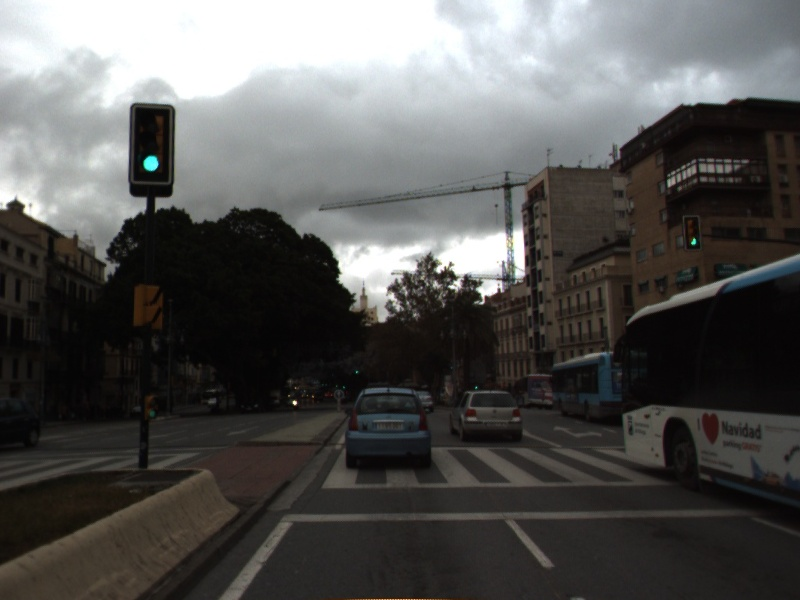STRAIGHT_RIGHT: (551, 423, 605, 441)
